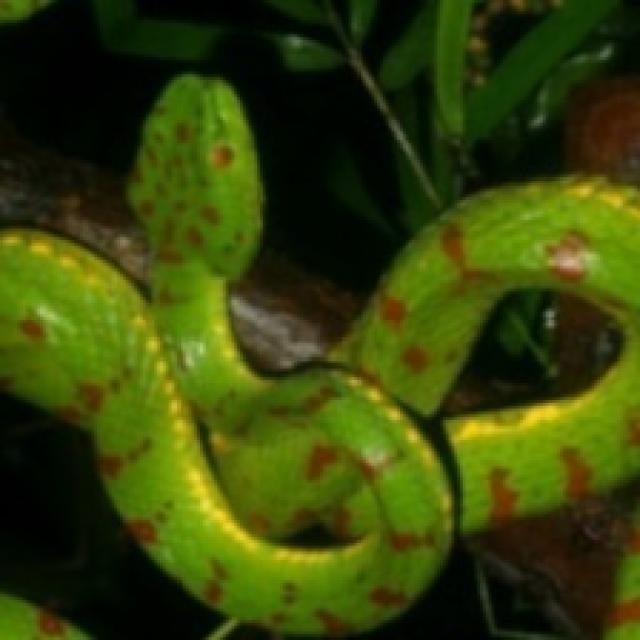philippine pitviper: (0, 74, 637, 637)
